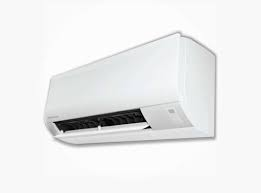ac: (43, 29, 223, 145)
